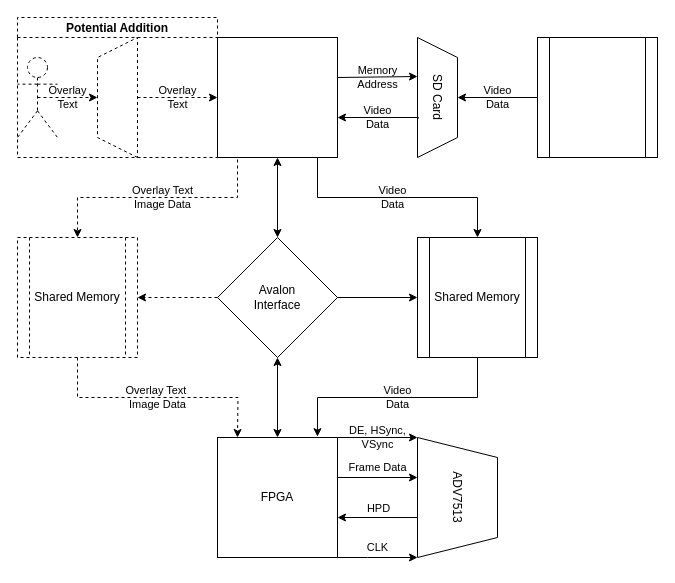
The diagram is 675 pixels wide and 583 high, and some of its shapes have lost their labels. Each missing label, with the box of its shape:
Hard Processor (Angstrom Linux): (216, 36, 338, 158)
SD Card Memory (Binary Video): (536, 36, 658, 158)
UART: (96, 36, 138, 158)
User: (16, 56, 58, 138)
